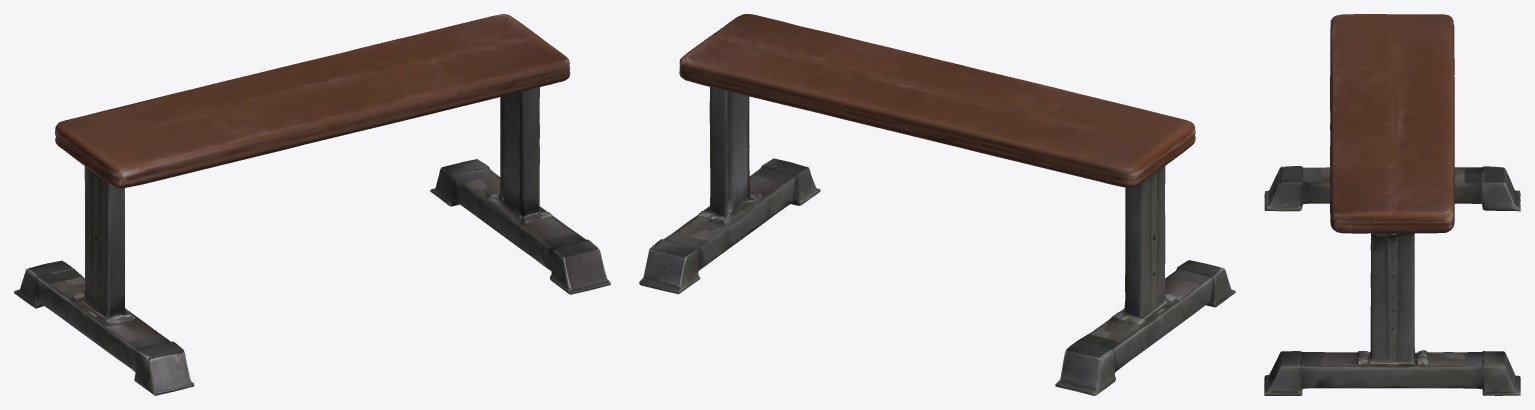
File: banco.glb
3 views of the same model, side by side, from view 1: azimuth 30°, elevation 25°; view 2: azimuth 150°, elevation 25°; view 3: azimuth 270°, elevation 25° (orthographic). The views are drawn at different scales.
Bounding box in the file's own units: 1.08 × 0.45 × 0.5743.
Materials: 1 (1 with a texture image).
